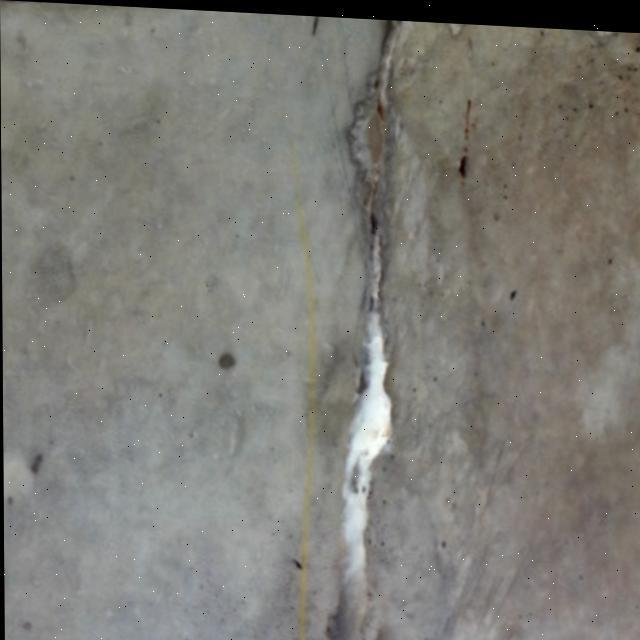D01: (342, 310, 391, 589)
